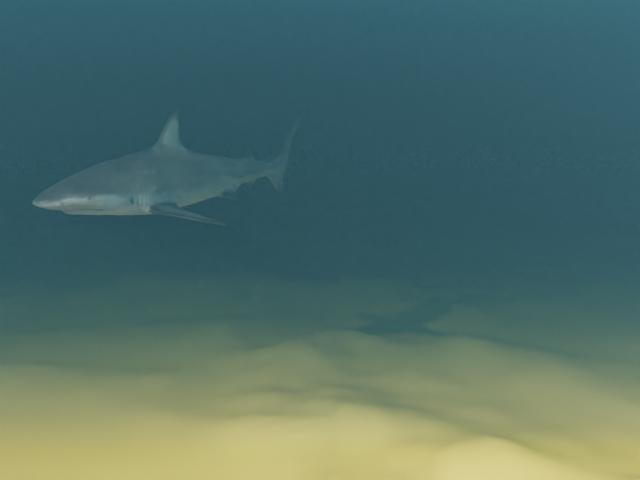Carribean Shark.001: (32, 110, 306, 225)
